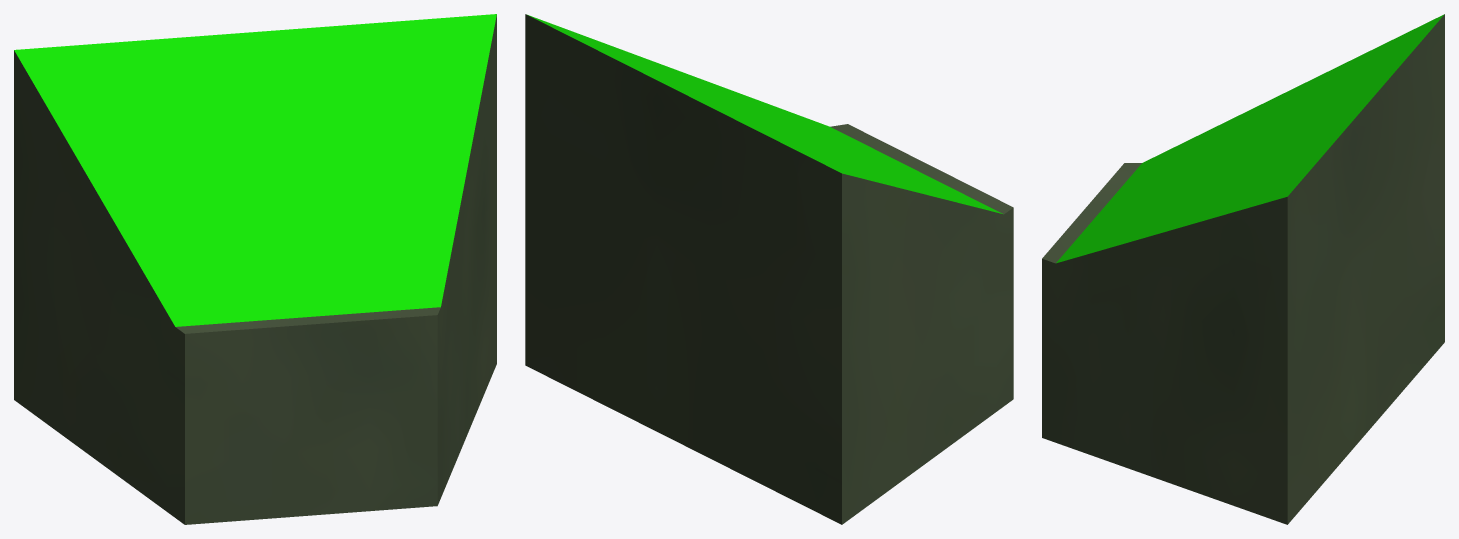
File: map_table.fbx
3 renders of one model, left to right at view 1: azimuth 30°, elevation 25°; view 2: azimuth 150°, elevation 25°; view 3: azimuth 270°, elevation 25°, orthographic. The views are drawn at different scales.
Visible parts, largest first — view 1: map_table; view 2: map_table; view 3: map_table.
Boxes of the visible parts, box(x1,y1,x2,y2) form: map_table: box(14, 14, 496, 524); map_table: box(525, 14, 1013, 524); map_table: box(1042, 14, 1444, 524).
Size of the model in its own units: 101 by 84.39 by 93.87.
Materials: 2 (1 with a texture image).
